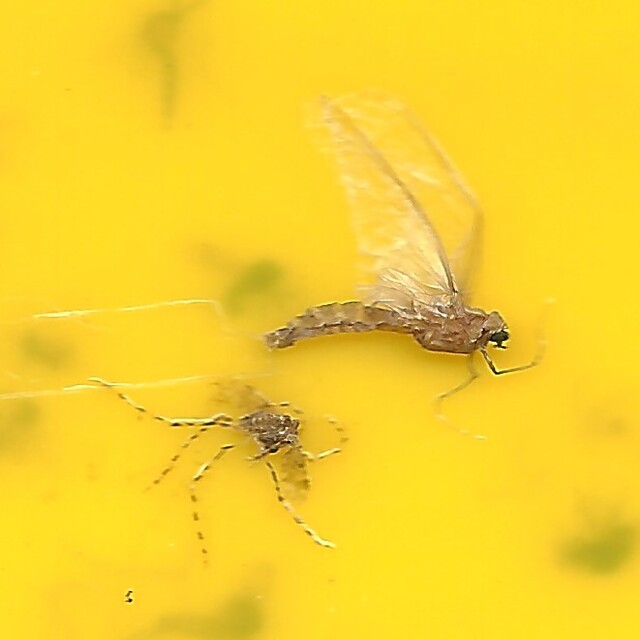Ephemeroptera: (261, 86, 537, 383)
Nematocera: (103, 390, 351, 554)
